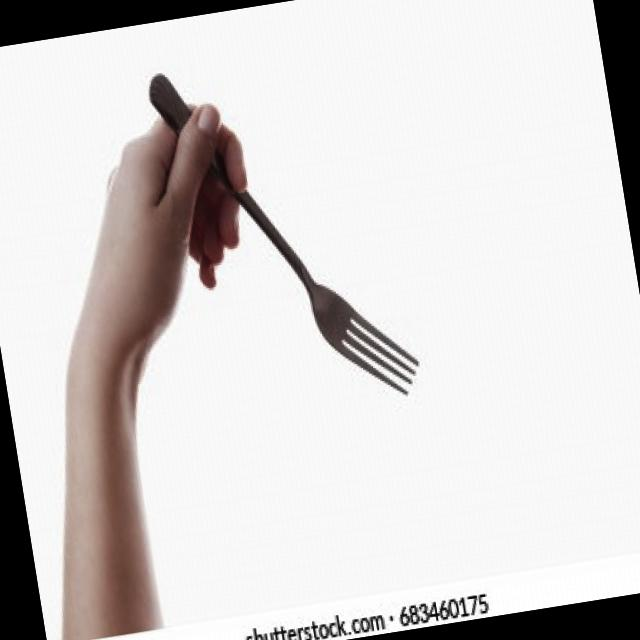fork: (146, 38, 428, 432)
